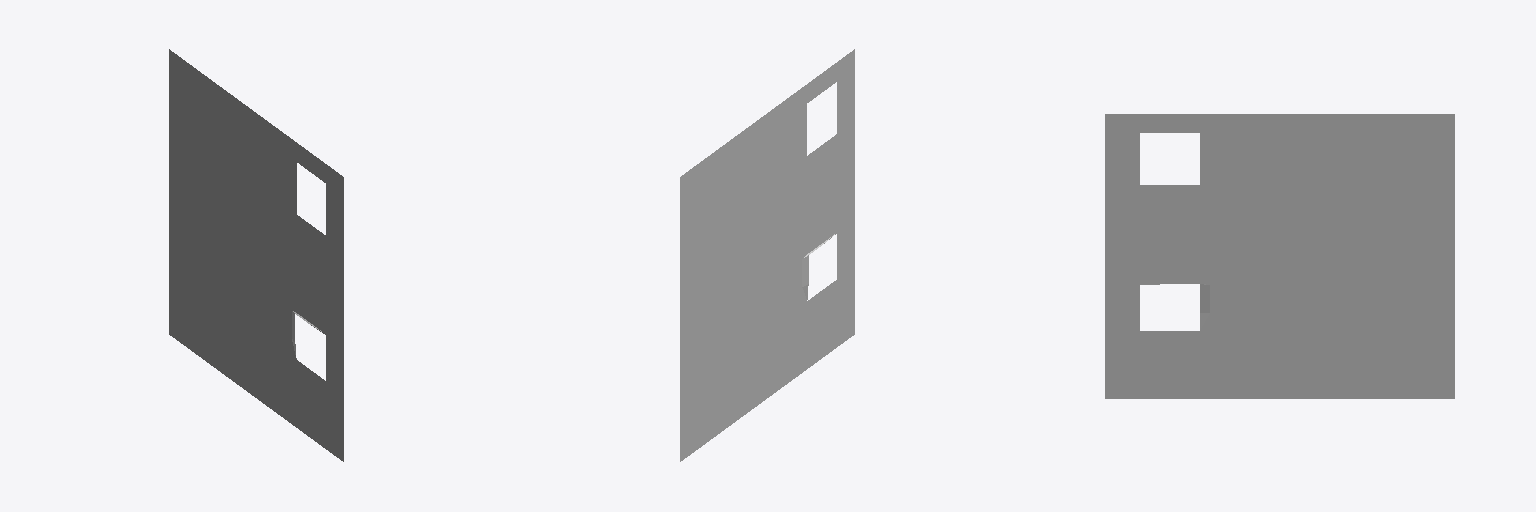
The model's file is wall2 1.obj.
3 renders of one model, left to right at view 1: azimuth 30°, elevation 25°; view 2: azimuth 150°, elevation 25°; view 3: azimuth 270°, elevation 25°, orthographic.
Parts seen in each view (by area): view 1: pPlane1; view 2: pPlane1; view 3: pPlane1.
Boxes of the visible parts, box(x1,y1,x2,y2) form: pPlane1: box(169, 49, 343, 461); pPlane1: box(680, 49, 854, 461); pPlane1: box(1105, 114, 1454, 398).
Size of the model in its own units: 0.9651 by 212 by 236.